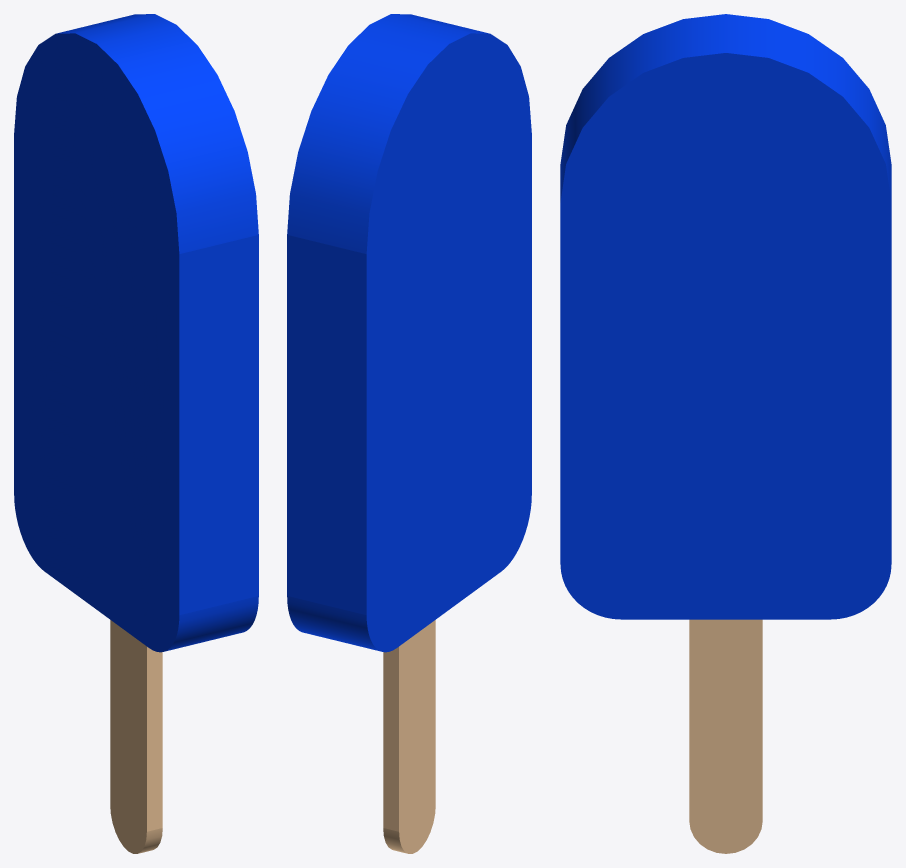
The model's file is popsicle_darkblue.fbx.
3 renders of one model, left to right at view 1: azimuth 30°, elevation 25°; view 2: azimuth 150°, elevation 25°; view 3: azimuth 270°, elevation 25°, orthographic.
Visible parts, largest first — view 1: popsicle; view 2: popsicle; view 3: popsicle.
Part boxes in pixels (left/top/right/bottom): popsicle: left=14, top=14, right=258, bottom=853; popsicle: left=287, top=14, right=531, bottom=853; popsicle: left=560, top=14, right=891, bottom=853.
Size of the model in its own units: 5 by 49 by 18.
